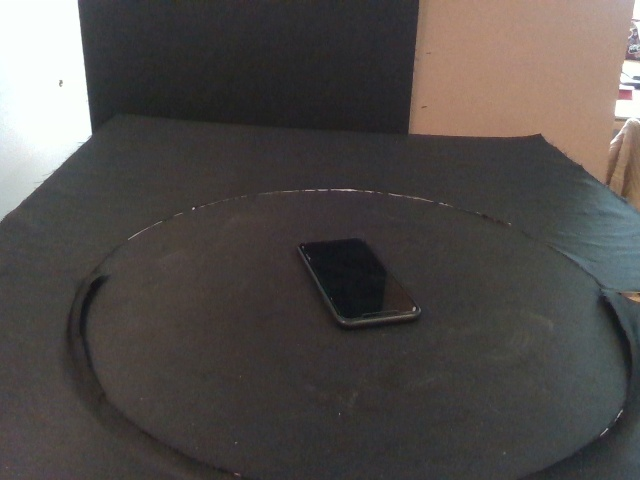phone: (295, 237, 422, 327)
